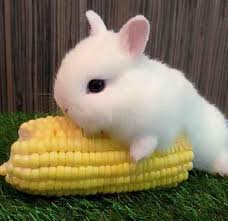bunny: (42, 5, 228, 181)
